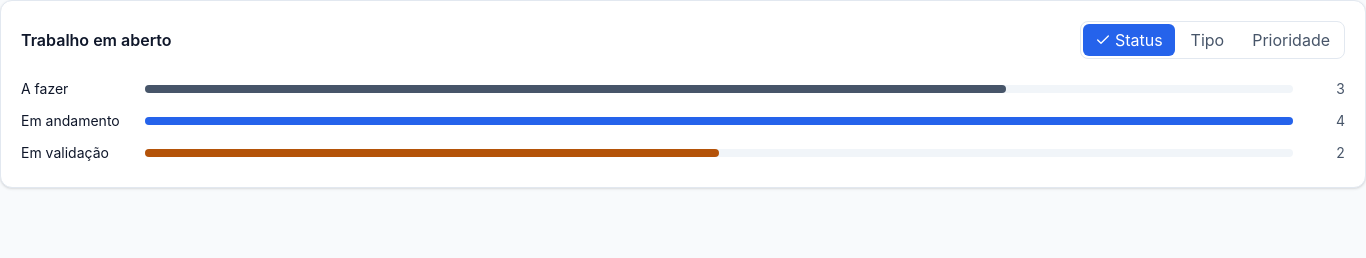
Test: DistribuicaoDoTrabalho › deve mostrar as quantidades por tipo quando Tipo é escolhido
Step 1. Click the radio button labelled "Tipo" → (1207,40), box [1179,24,1236,56]
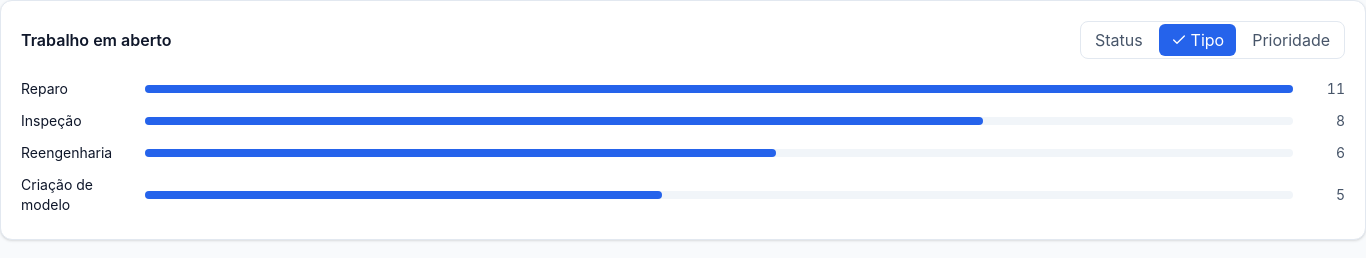
Expected: the list items read "Reparo11", "Inspeção8", "Reengenharia6", "Criação de modelo5", in this order, [21,75,1345,103]; [21,107,1345,135]; [21,139,1345,167]; [21,171,1345,219]
